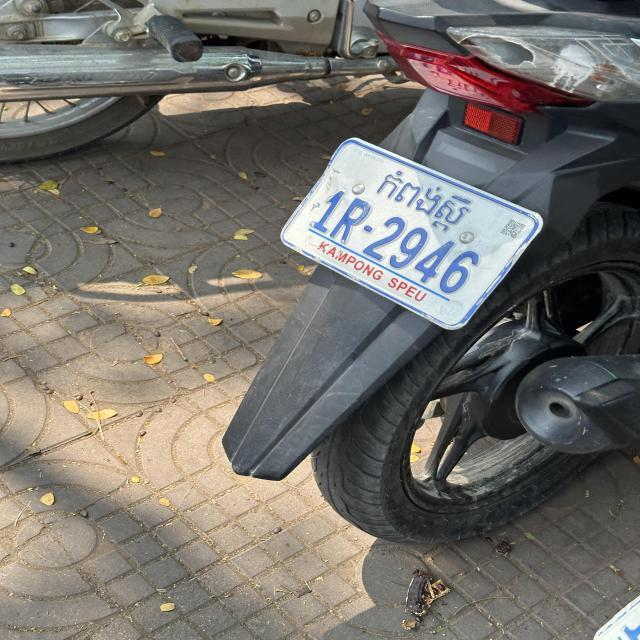Kampong_Speu: (375, 168, 472, 232)
